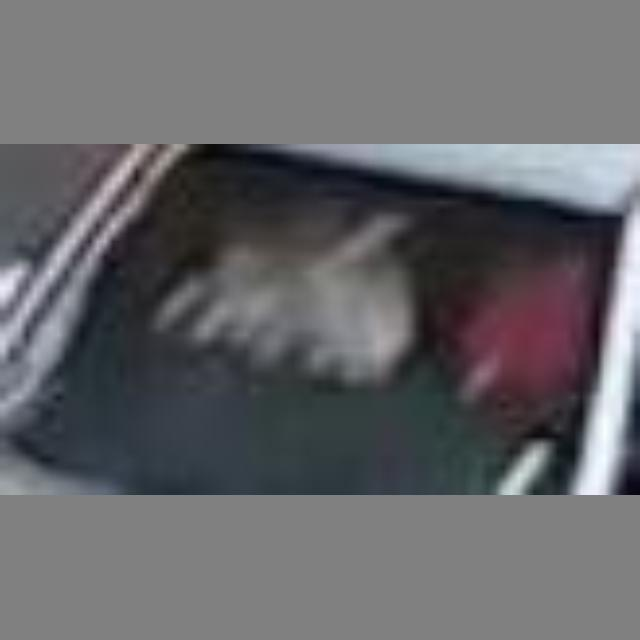tidak-pakai: (187, 191, 375, 378), (468, 238, 593, 409)
